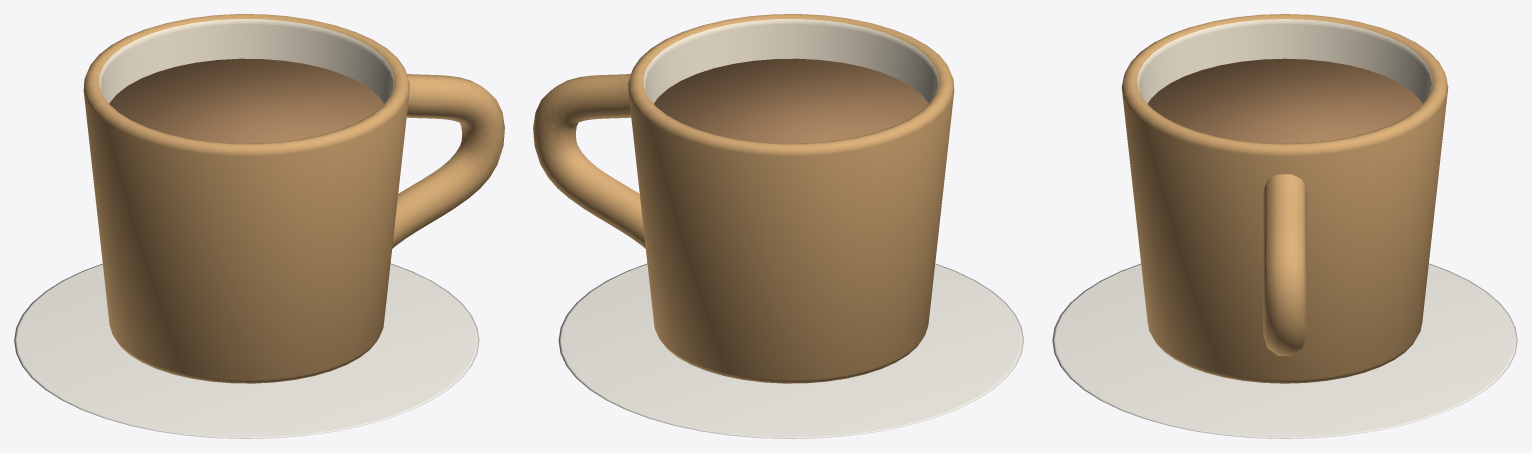
File: cup.glb
3 renders of one model, left to right at view 1: azimuth 30°, elevation 25°; view 2: azimuth 150°, elevation 25°; view 3: azimuth 270°, elevation 25°, orthographic.
Parts seen in each view (by area): view 1: cup_body, cup_saucer, cup_tea, cup_handle; view 2: cup_body, cup_saucer, cup_tea, cup_handle; view 3: cup_body, cup_saucer, cup_tea, cup_handle.
Part boxes in pixels (x1,y1,x2,y2): cup_body: (83, 14, 409, 383); cup_saucer: (14, 263, 479, 438); cup_tea: (109, 58, 383, 143); cup_handle: (392, 73, 504, 248); cup_body: (628, 14, 954, 383); cup_saucer: (558, 263, 1023, 438); cup_tea: (654, 58, 928, 143); cup_handle: (533, 73, 645, 248); cup_body: (1121, 14, 1448, 383); cup_saucer: (1052, 263, 1517, 438); cup_tea: (1148, 58, 1421, 143); cup_handle: (1263, 174, 1306, 355).
Size of the model in its own units: 0.2891 by 0.1696 by 0.2554.
